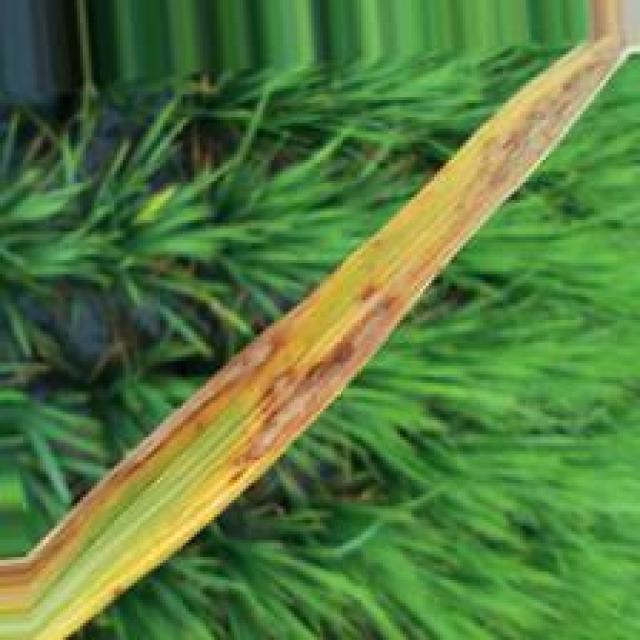Bacterial_Leaf_Blight: (1, 0, 637, 640)
